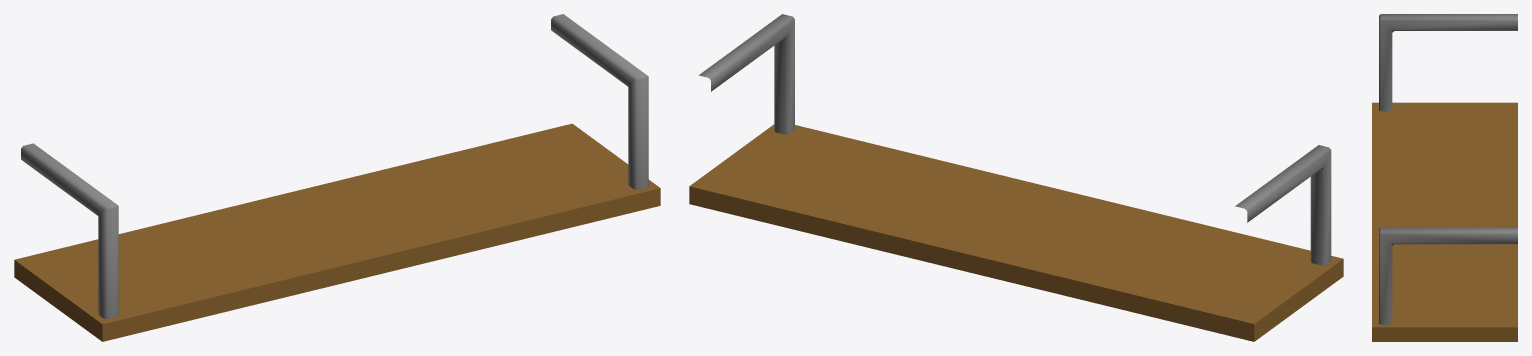
Rendered from shelf.glb.
The picture shows the model from 3 angles, left to right: view 1: azimuth 30°, elevation 25°; view 2: azimuth 150°, elevation 25°; view 3: azimuth 270°, elevation 25°; orthographic projection. The views are drawn at different scales.
Visible parts, largest first — view 1: WallShelf_Simple; view 2: WallShelf_Simple; view 3: WallShelf_Simple.
Boxes of the visible parts, x1,y1,x2,y2 form: WallShelf_Simple: (14,14,660,341); WallShelf_Simple: (689,14,1343,341); WallShelf_Simple: (1372,14,1517,341).
Bounding box in the file's own units: 1.05 × 0.2332 × 0.2885.
Materials: 1 (1 with a texture image).
